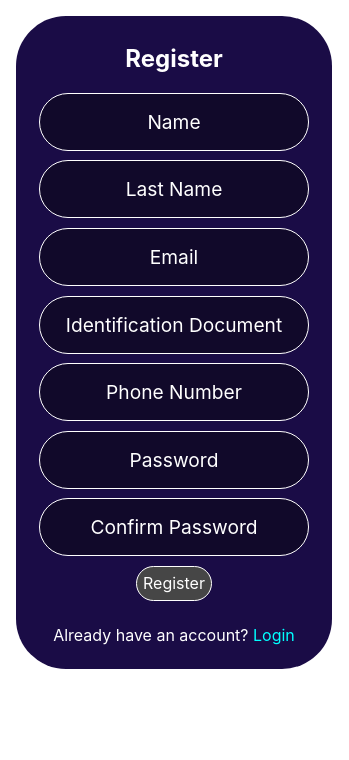
Test: Register Component › shows error message when registration fails
In the field with placeholder "Name": (174, 122) [39,93,309,151], type "John"
In the field with placeholder "Last Name": (174, 189) [39,160,309,218], type "Doe"
In the field with placeholder "Email": (174, 257) [39,228,309,286], type "existing@example.com"
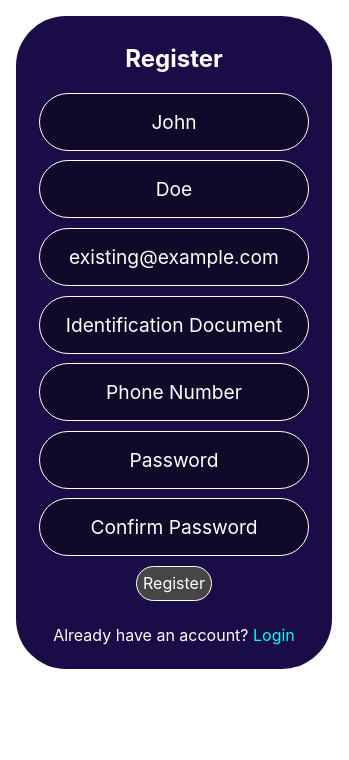
In the field with placeholder "Identification Document": (174, 325) [39,296,309,354], type "12345678"
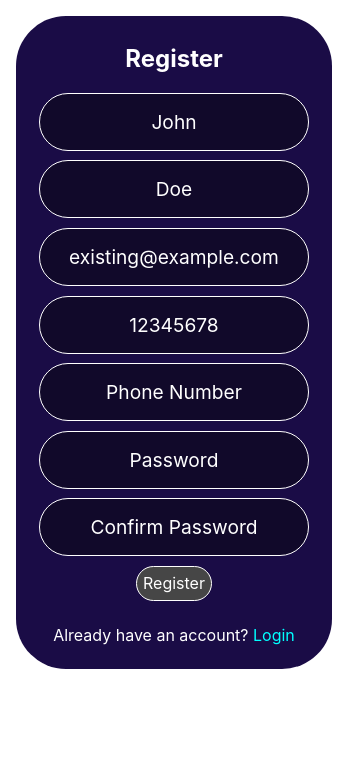
In the field with placeholder "Phone Number": (174, 392) [39,363,309,421], type "1234567890"
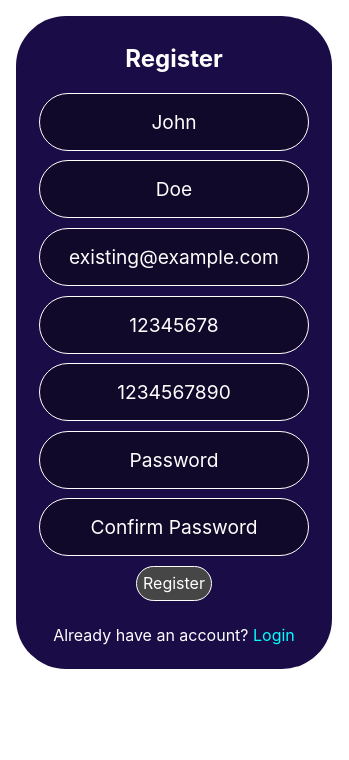
In the password field with placeholder "Password": (174, 460) [39,431,309,489], type "secure123"
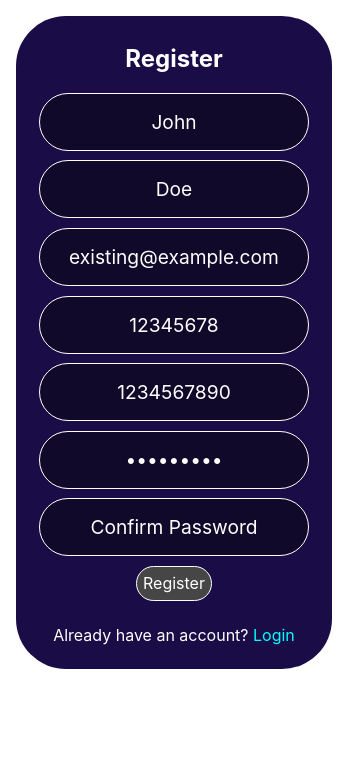
In the password field with placeholder "Confirm Password": (174, 527) [39,498,309,556], type "secure123"
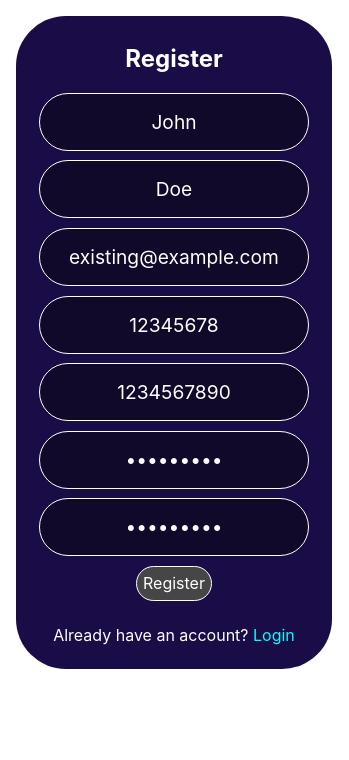
Submit the form with test id "register-form", box [24,93,324,609]
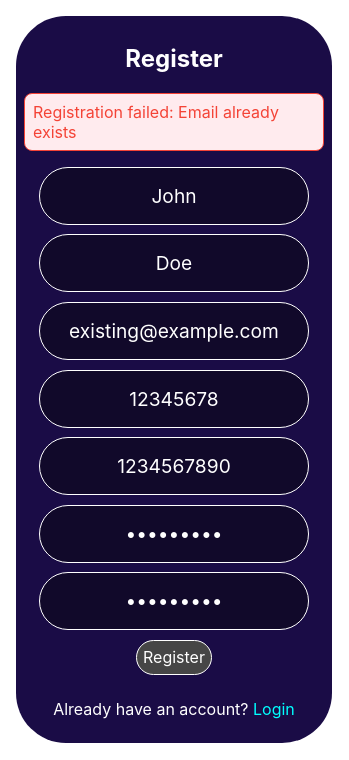
expect the text "Registration failed: Email already exists" is shown: met, box [24,93,324,151]
